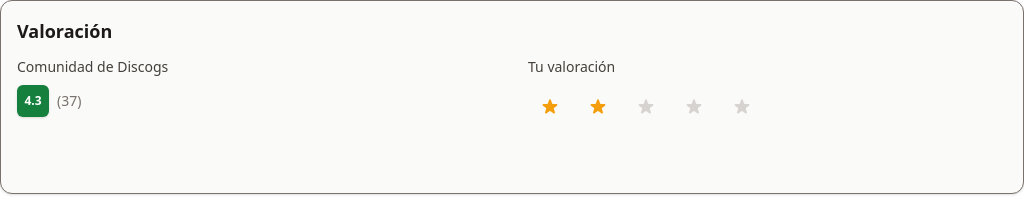
Test case: RatingCard — layout stability (feature 063 §C4 / SC-008 / T043) › reserves the same min-height in the save-error state (no jump when the alert appears)
Click the button named "3 stars". click: (646, 107)
box: [624,85,668,129]
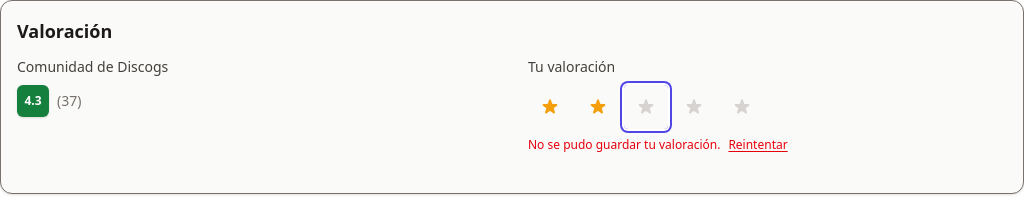
Expected: the element that starts with "Comunidad de Discogs" is shown, [17,57,792,153]
Expected: the message "No se pudo guardar tu valoración. Reintentar" is shown, [528,136,792,153]
